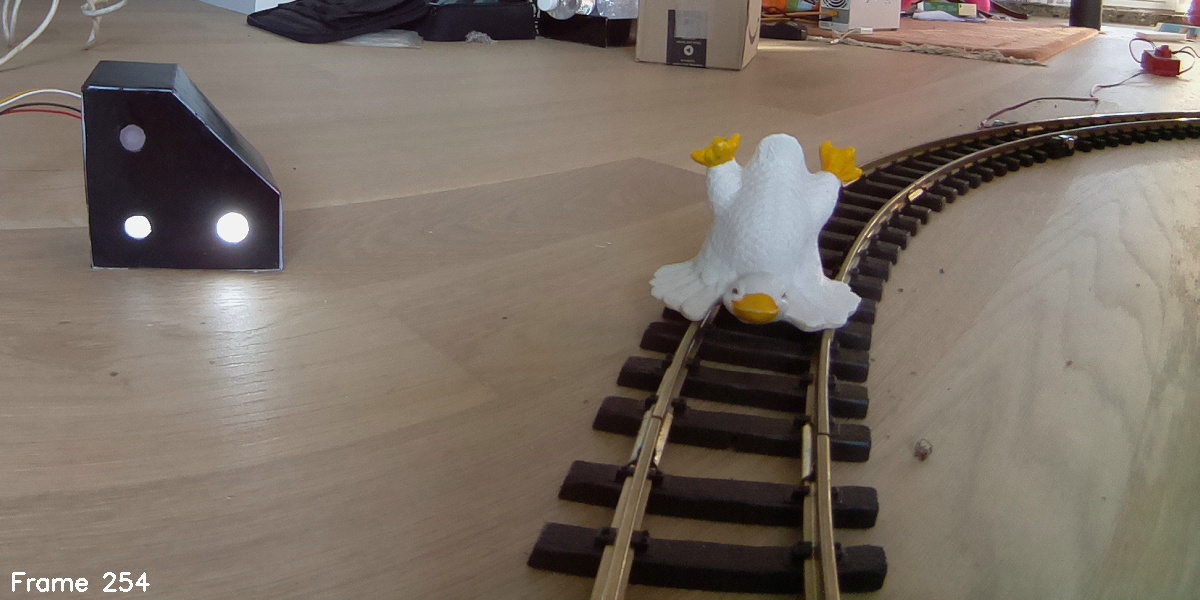Halt: (80, 55, 282, 269)
